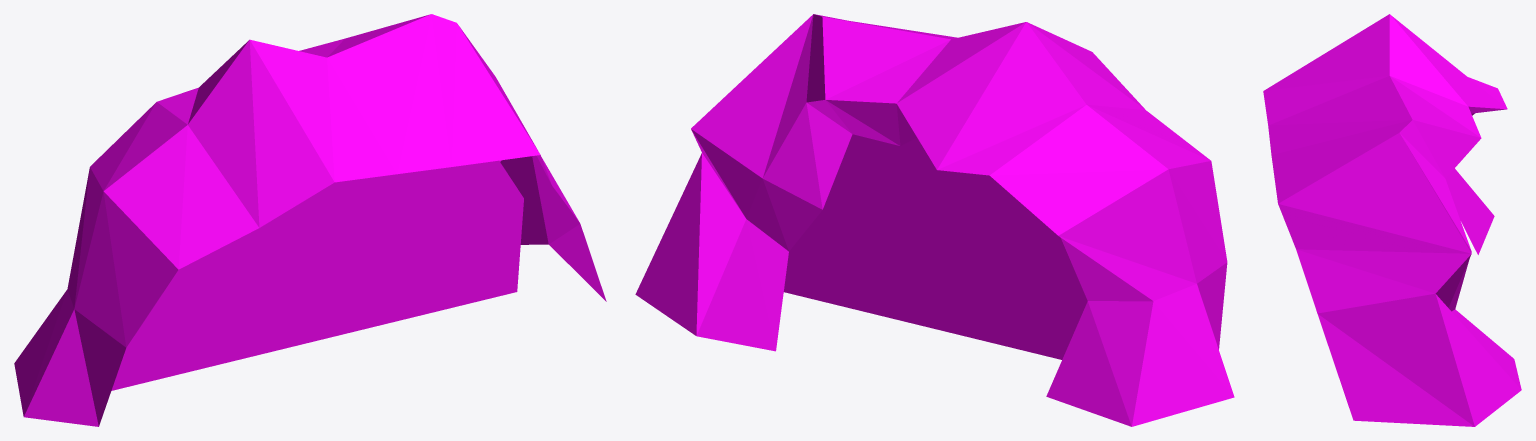
File: caveentrance2.obj
3 views of the same model, side by side, from view 1: azimuth 30°, elevation 25°; view 2: azimuth 150°, elevation 25°; view 3: azimuth 270°, elevation 25° (orthographic). The views are drawn at different scales.
Parts seen in each view (by area): view 1: caveentrance2_back; view 2: caveentrance2_back; view 3: caveentrance2_back.
Boxes of the visible parts, bbox=[...] form: caveentrance2_back: bbox=[14, 14, 606, 426]; caveentrance2_back: bbox=[635, 14, 1234, 426]; caveentrance2_back: bbox=[1263, 14, 1521, 426].
Size of the model in its own units: 6.64 by 3.65 by 3.15.
